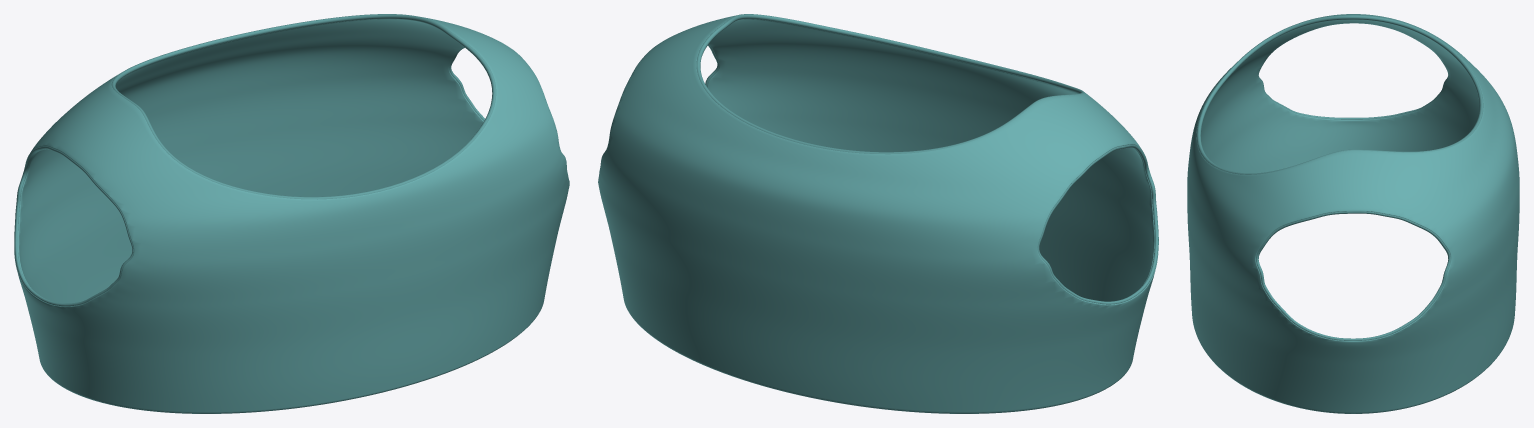
Rendered from Masculine-tank-top.glb.
The picture shows the model from 3 angles, left to right: view 1: azimuth 30°, elevation 25°; view 2: azimuth 150°, elevation 25°; view 3: azimuth 270°, elevation 25°; orthographic projection. The views are drawn at different scales.
Visible parts, largest first — view 1: Clothing / tank, Neckline / fitted crew export, Tank / armhole binding -1 export, Shirt / seated hem export; view 2: Clothing / tank, Neckline / fitted crew export, Tank / armhole binding -1 export, Shirt / seated hem export; view 3: Clothing / tank, Neckline / fitted crew export, Tank / armhole binding 1 export, Tank / armhole binding -1 export.
Boxes of the visible parts, bbox=[...] form: Clothing / tank: bbox=[14, 17, 569, 413]; Neckline / fitted crew export: bbox=[111, 14, 496, 199]; Tank / armhole binding -1 export: bbox=[14, 146, 133, 306]; Shirt / seated hem export: bbox=[66, 340, 511, 413]; Clothing / tank: bbox=[598, 15, 1158, 413]; Neckline / fitted crew export: bbox=[696, 14, 1084, 154]; Tank / armhole binding -1 export: bbox=[1037, 144, 1158, 304]; Shirt / seated hem export: bbox=[662, 343, 1105, 413]; Clothing / tank: bbox=[1187, 14, 1519, 413]; Neckline / fitted crew export: bbox=[1196, 15, 1483, 174]; Tank / armhole binding 1 export: bbox=[1256, 211, 1450, 340]; Tank / armhole binding -1 export: bbox=[1258, 74, 1448, 119].
Bounding box in the file's own units: 0.7132 × 0.3438 × 0.4506.
